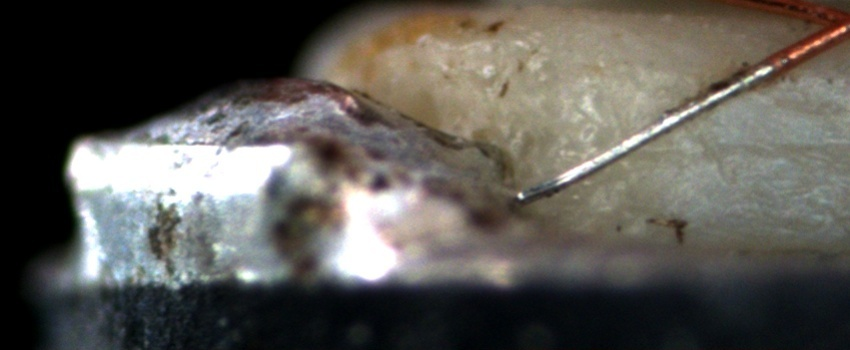CL: (806, 1, 850, 45)
DL: (627, 118, 849, 182)
TS: (517, 63, 776, 204)
